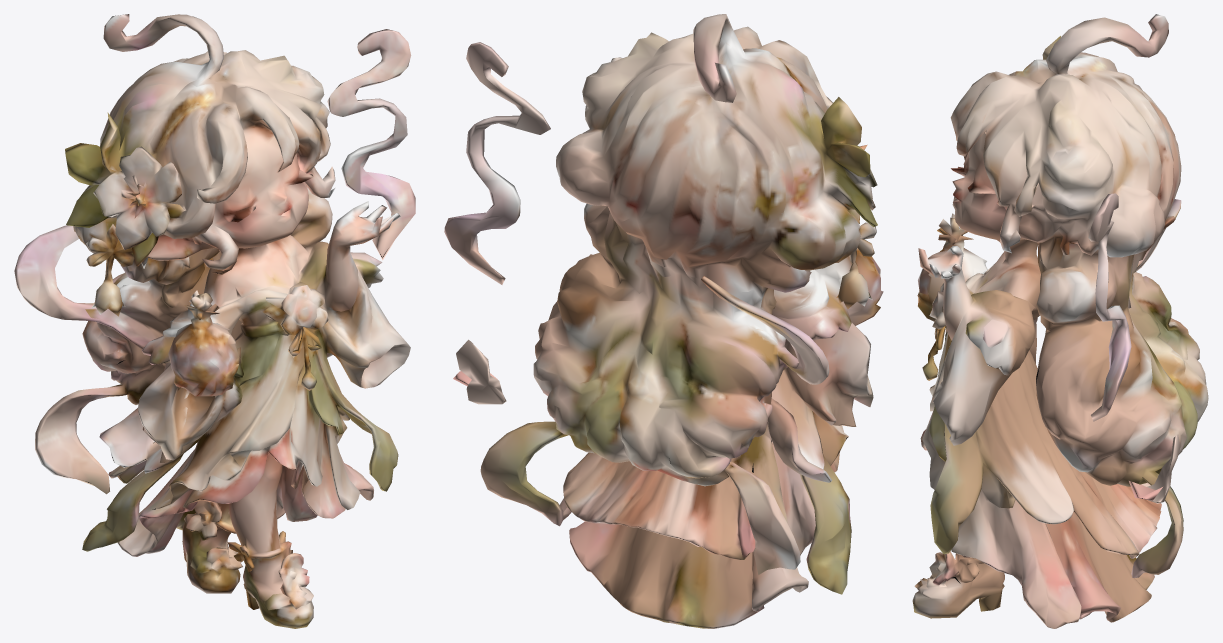
The model's file is smell_painted.glb.
3 views of the same model, side by side, from view 1: azimuth 30°, elevation 25°; view 2: azimuth 150°, elevation 25°; view 3: azimuth 270°, elevation 25° (orthographic). The views are drawn at different scales.
Parts seen in each view (by area): view 1: Body; view 2: Body; view 3: Body.
Boxes of the visible parts, bbox=[...] form: Body: bbox=[14, 14, 415, 628]; Body: bbox=[444, 14, 883, 628]; Body: bbox=[912, 14, 1208, 628].
Bounding box in the file's own units: 0.705 × 0.9995 × 0.4663.
Materials: 1 (1 with a texture image).
